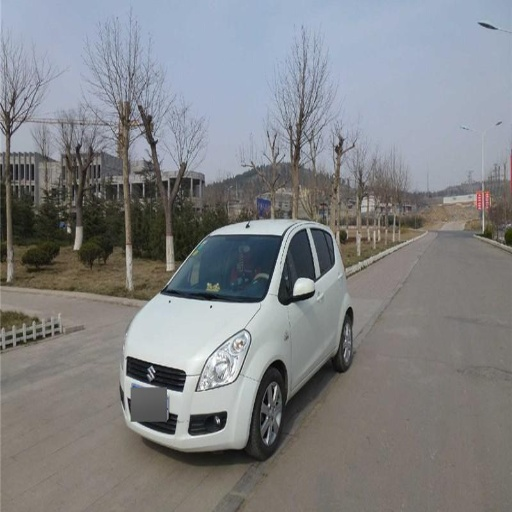front_bumper: (122, 354, 260, 452)
front_glass: (162, 236, 282, 302)
front_left_door: (281, 226, 324, 385)
